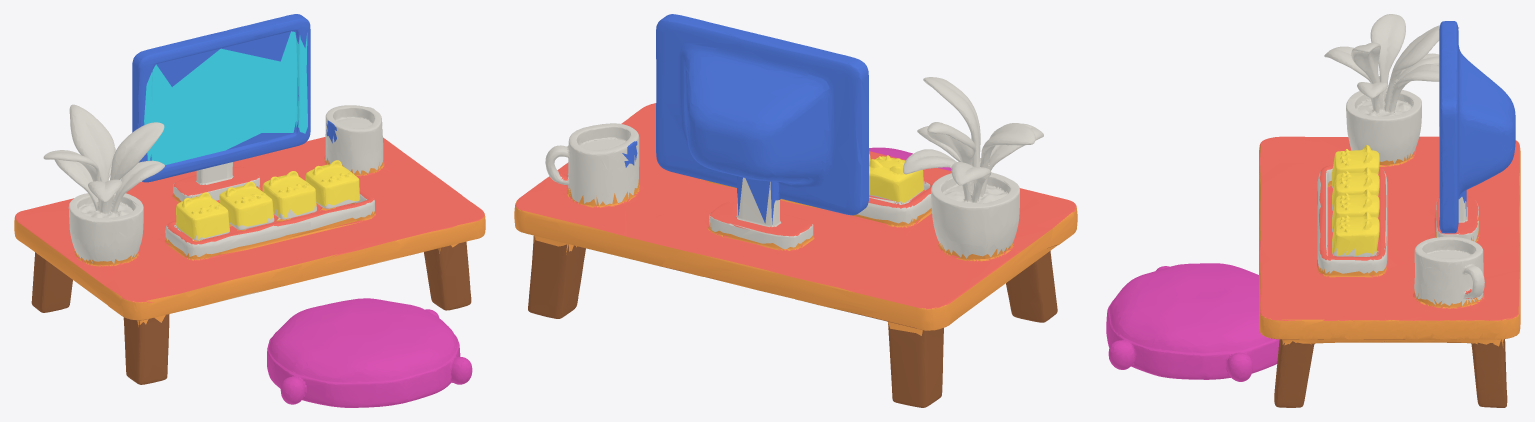
File: low-monitor-segmentation-preview-v1.glb
The picture shows the model from 3 angles, left to right: view 1: azimuth 30°, elevation 25°; view 2: azimuth 150°, elevation 25°; view 3: azimuth 270°, elevation 25°; orthographic projection. The views are drawn at different scales.
Parts seen in each view (by area): view 1: low-monitor-segmentation-preview-v1; view 2: low-monitor-segmentation-preview-v1; view 3: low-monitor-segmentation-preview-v1.
Part boxes in pixels (box(x1,y1,x2,y2)): low-monitor-segmentation-preview-v1: box(14, 14, 485, 407); low-monitor-segmentation-preview-v1: box(514, 14, 1077, 407); low-monitor-segmentation-preview-v1: box(1106, 14, 1520, 407).
Size of the model in its own units: 1.9 by 1.21 by 1.7.
